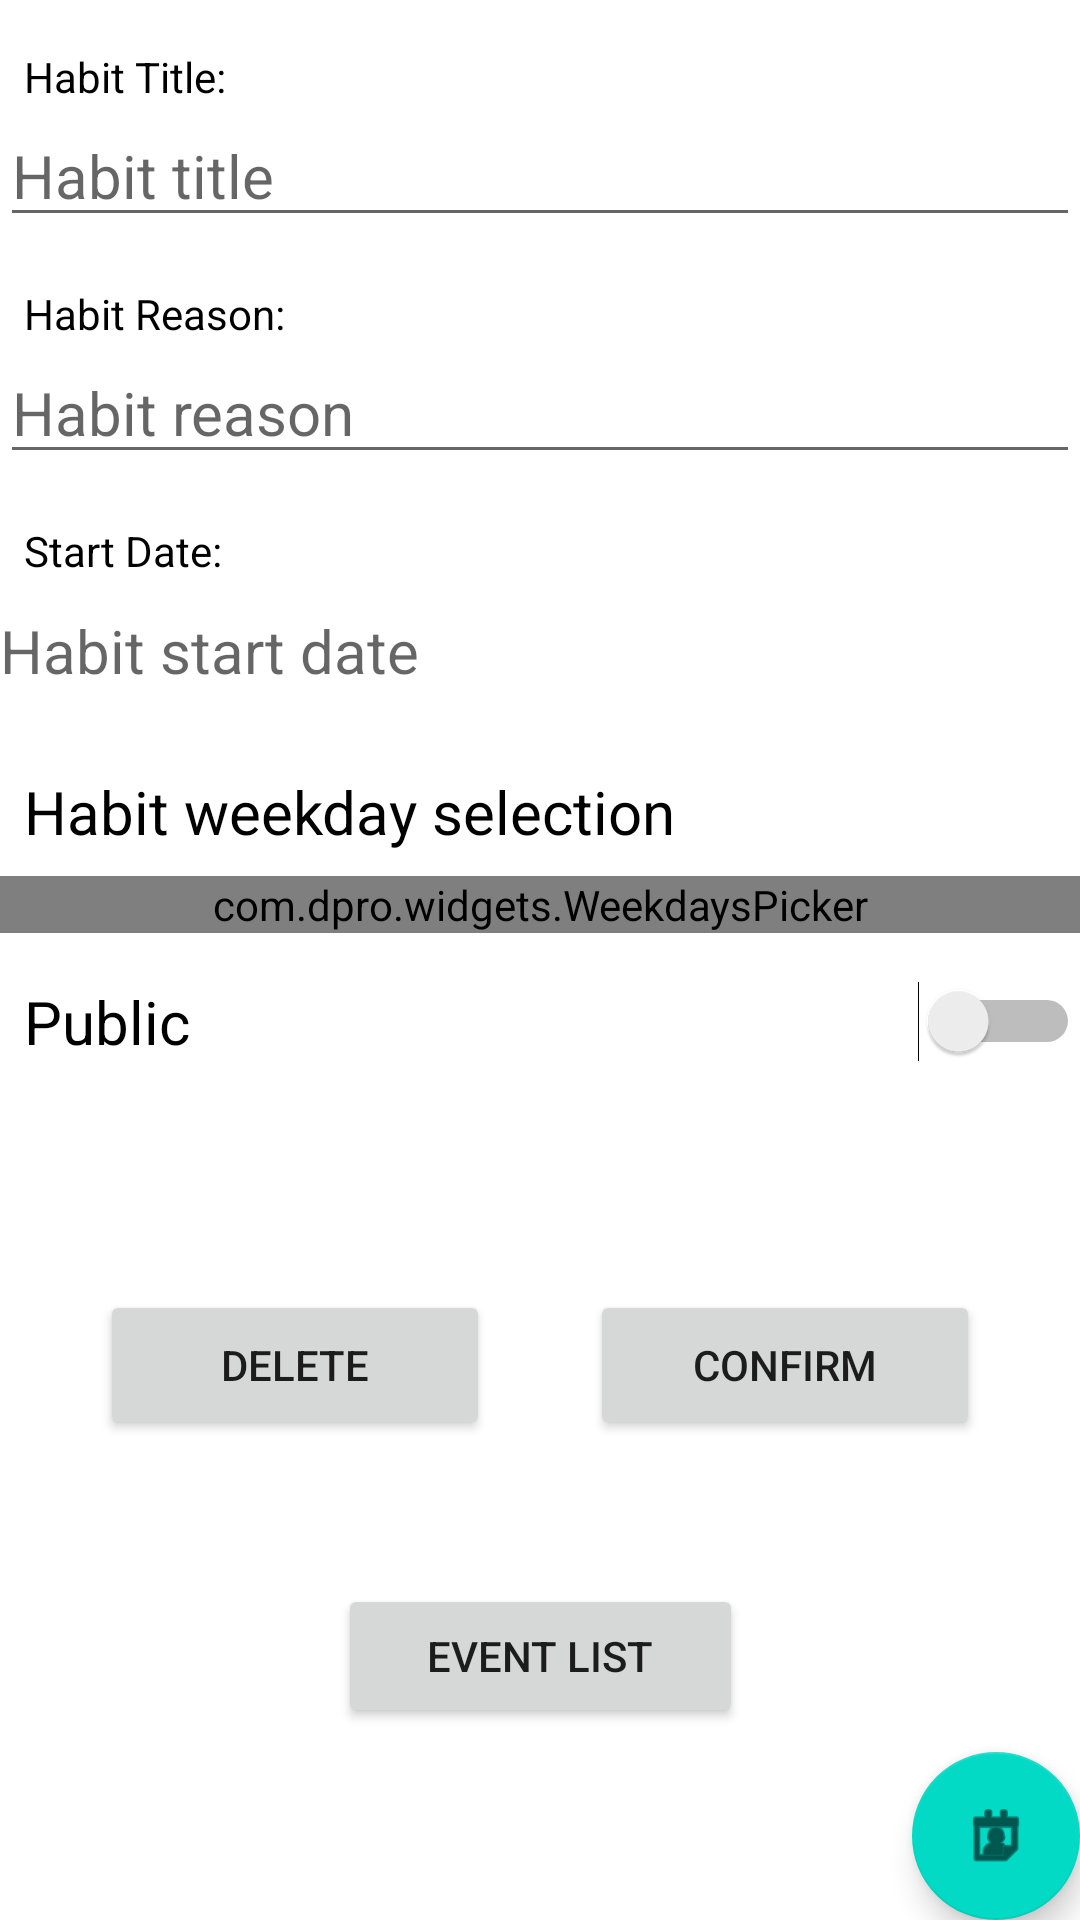

Icons on this 1080 x 1920 Android screen, each with the point to tap as [x,y]:
calendar: [996,1836]
